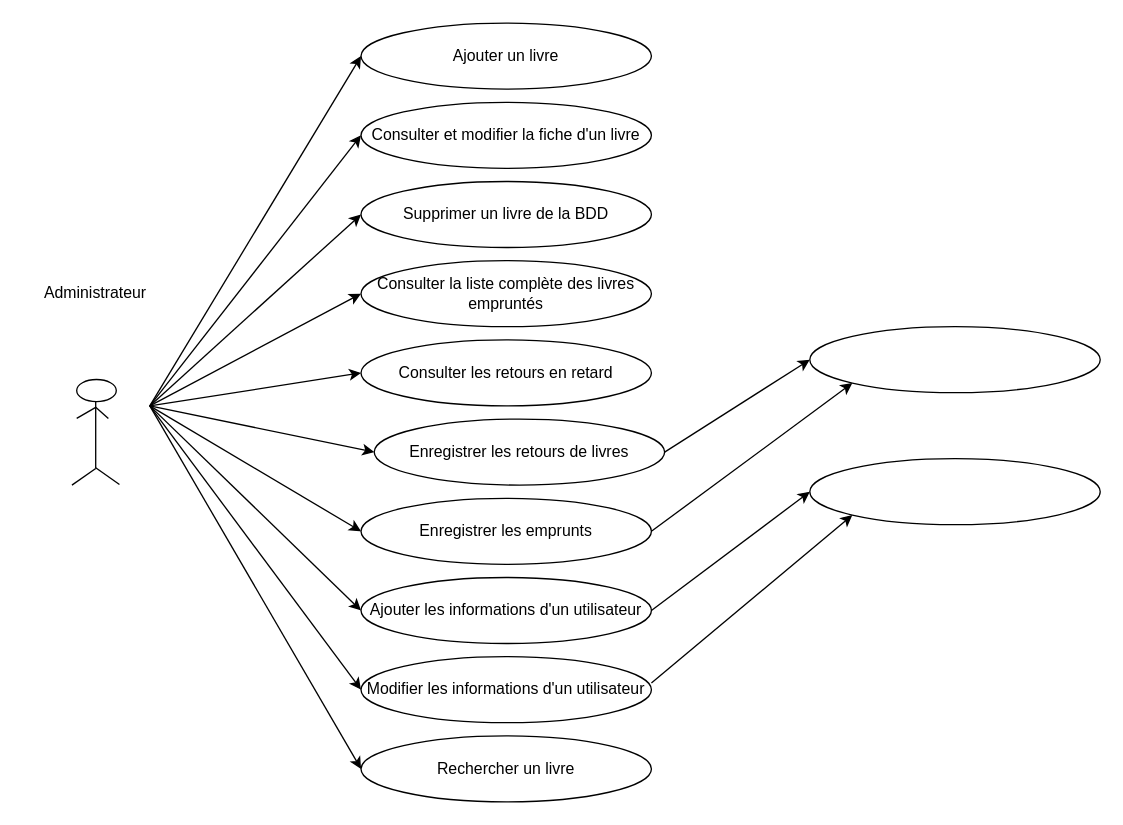
Image size: 1123x825. Some labels were removed from this diagram. Here are the shapes that lost their labels. From the top down, the centre of each, then its label:
(954,359): Superviser les emprunts et les retours de livres
(954,491): Consulter les inforlmations des utilisateurs
